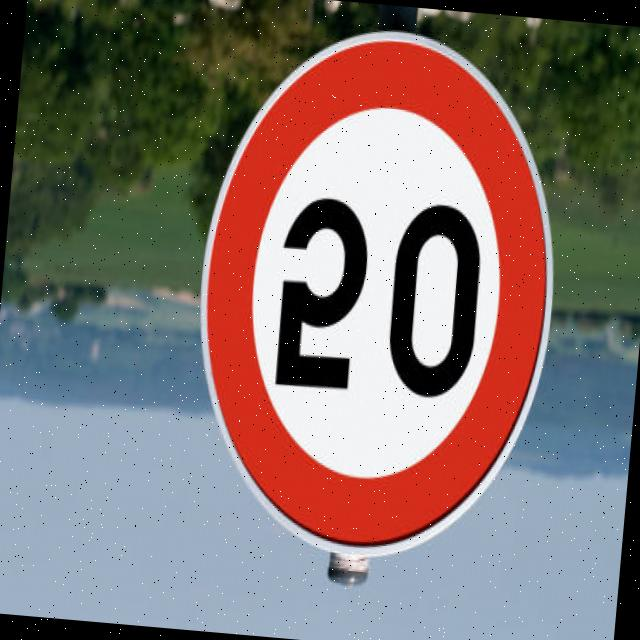speed_limit_50: (172, 8, 590, 574)
